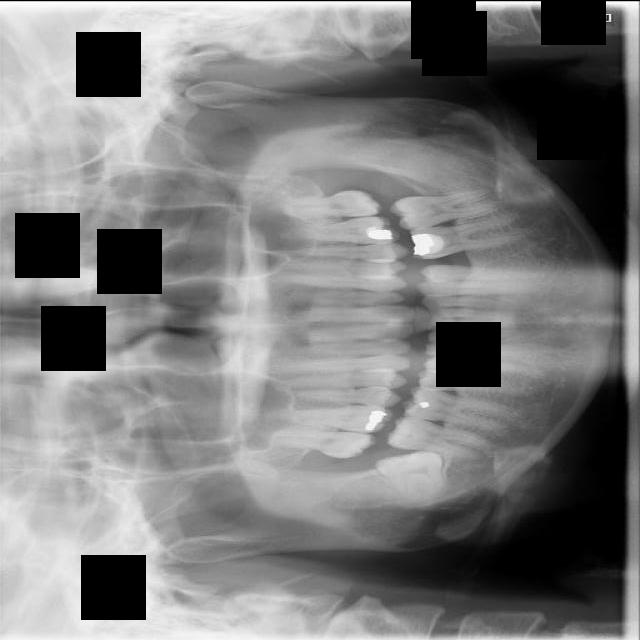52: (411, 229, 446, 256), (362, 405, 388, 434), (366, 226, 393, 239), (419, 399, 430, 409)
73: (610, 14, 619, 24)
BioHorizons Implant: (294, 187, 383, 219)
Blue Sky Bio Implant: (388, 186, 506, 232)
Caries: (272, 426, 379, 460)
Implant: (385, 412, 495, 469)
Keystone Dental Implant: (374, 447, 449, 505)
